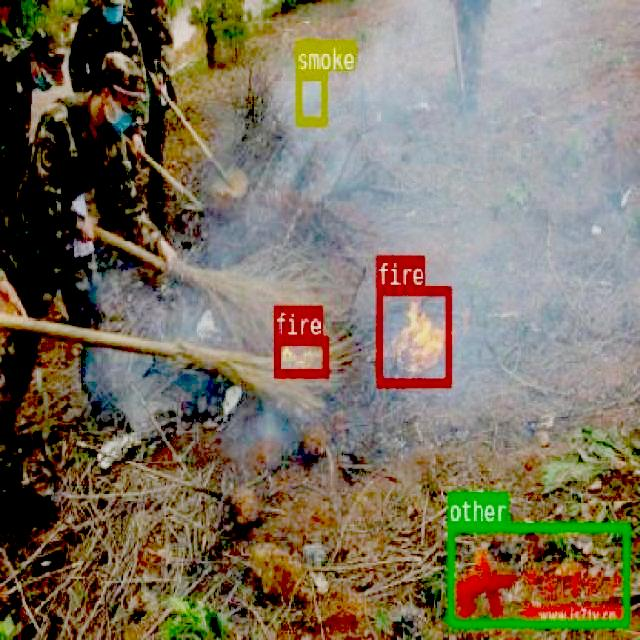fire: (374, 284, 450, 386), (273, 334, 327, 376)
smoke: (294, 70, 326, 124)
